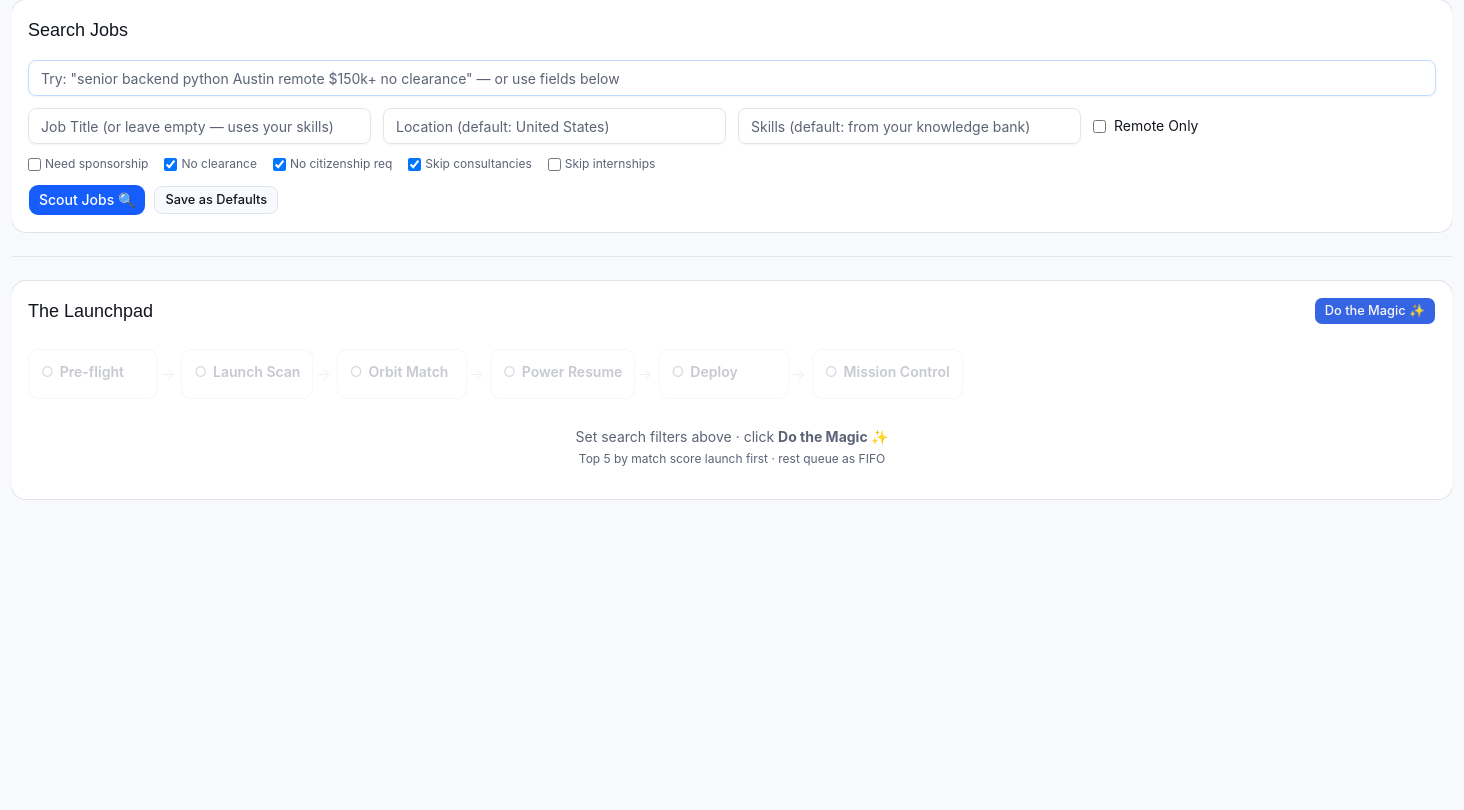
Test: JobSearchTab — selection + AI evaluate › selecting a job swaps the AI prompt for the Evaluate button
The width and height of the screenshot is (1464, 810).
Click the button "Scout Jobs 🔍".
click(87, 200)  # box [28,184,146,216]
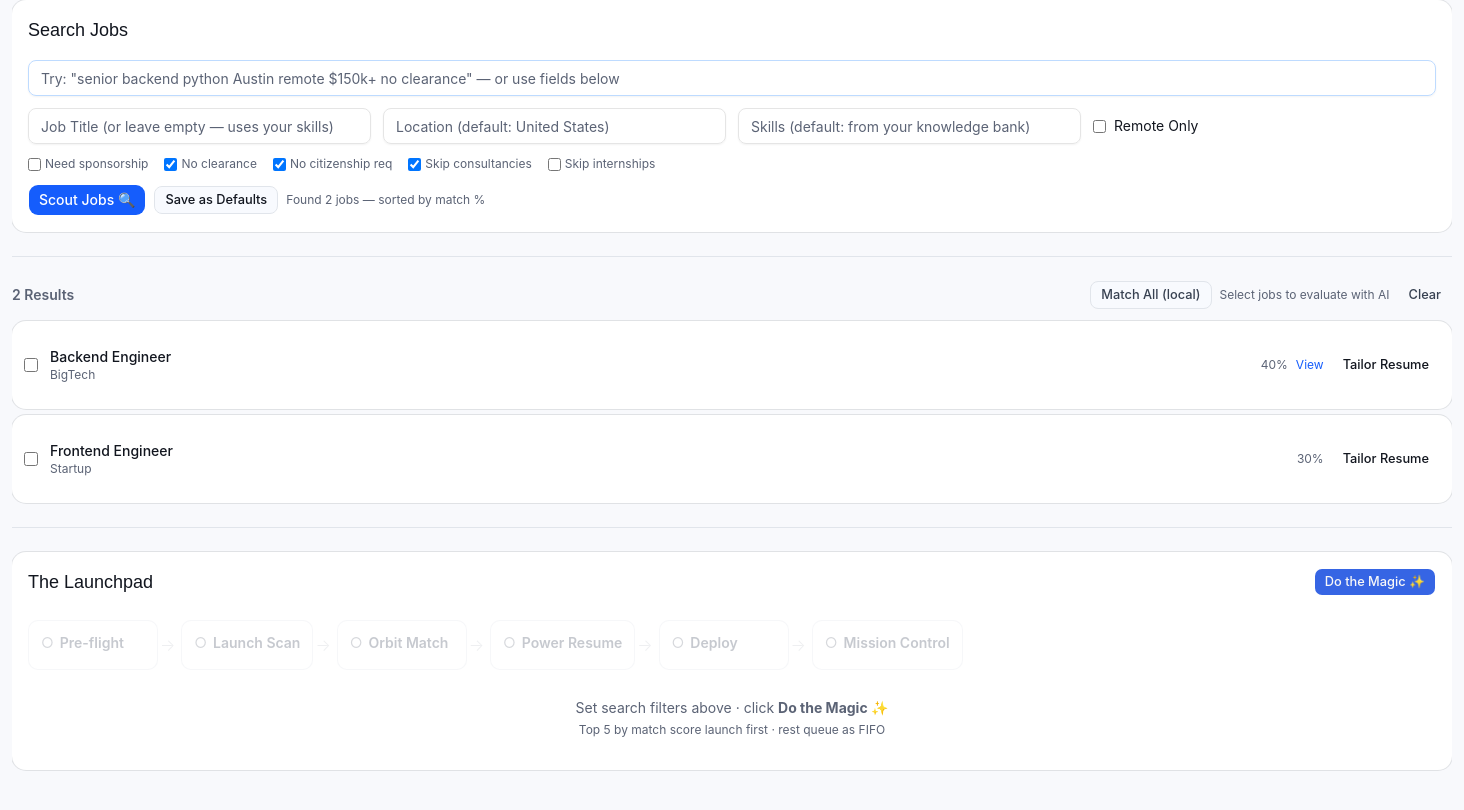
Now the text "Backend Engineer" is shown, box [50,347,171,367]
Now the text "Select jobs to evaluate with AI" is shown, box [1220,287,1390,303]
Click the checkbox named "Select Backend Engineer".
click(31, 365)  # box [24,358,38,372]
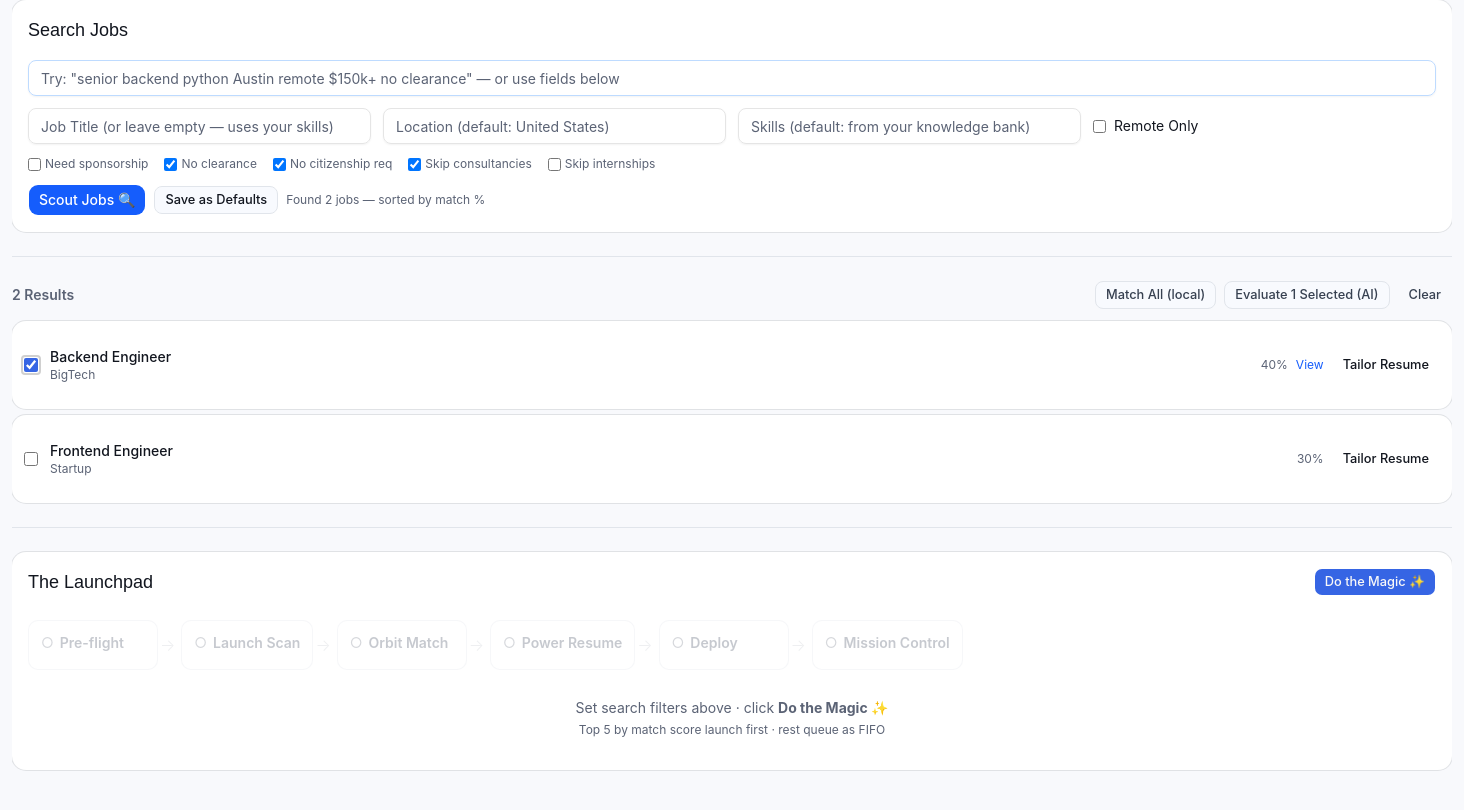
Now the button "Evaluate 1 Selected (AI)" is shown, box [1224,281,1390,309]
